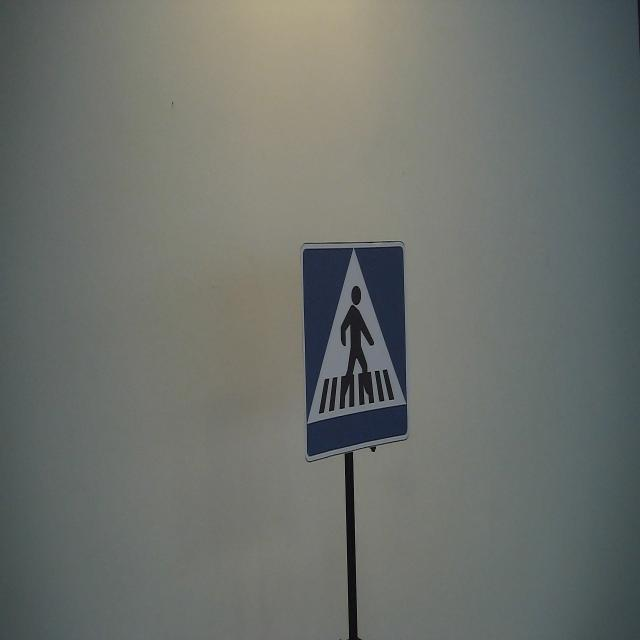crosswalk_sign: (298, 237, 412, 465)
